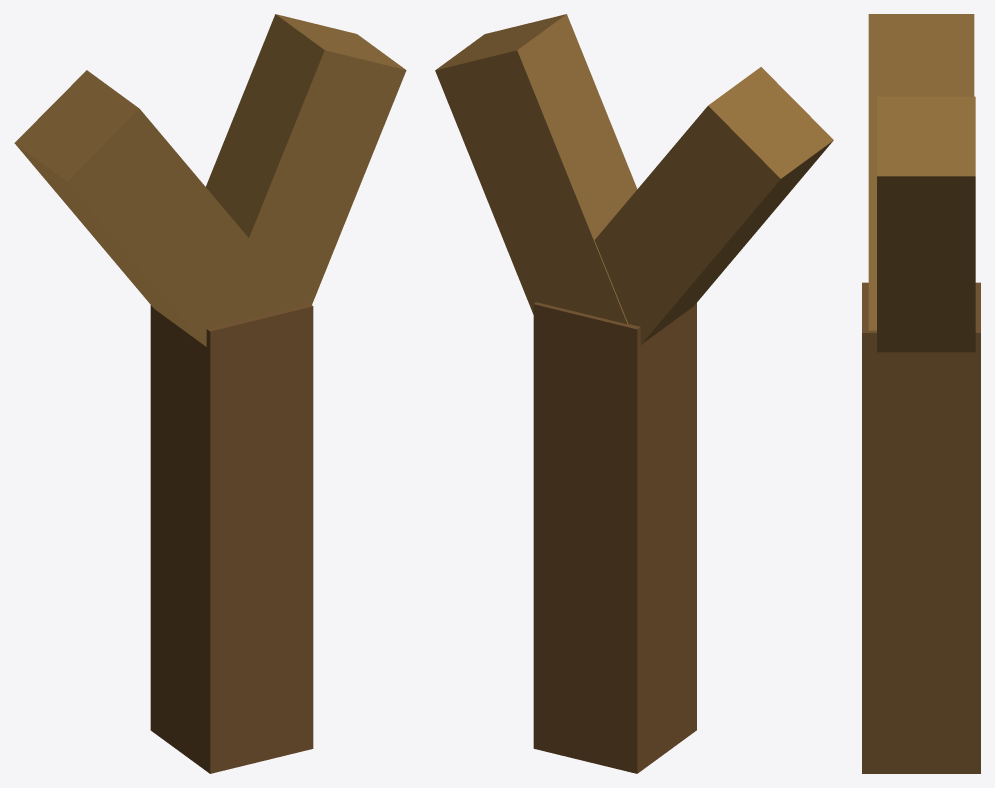
Rendered from Slingshot_Init.fbx.
3 views of the same model, side by side, from view 1: azimuth 30°, elevation 25°; view 2: azimuth 150°, elevation 25°; view 3: azimuth 270°, elevation 25° (orthographic).
Parts seen in each view (by area): view 1: Cube, Cube.002, Cube.001; view 2: Cube, Cube.001, Cube.002; view 3: Cube, Cube.001, Cube.002.
Boxes of the visible parts, x1,y1,x2,y2 form: Cube: (150, 301, 313, 773); Cube.002: (14, 70, 304, 346); Cube.001: (206, 14, 406, 304); Cube: (533, 302, 696, 773); Cube.001: (435, 14, 637, 324); Cube.002: (594, 67, 833, 344); Cube: (862, 282, 980, 773); Cube.001: (877, 96, 975, 352); Cube.002: (868, 14, 974, 330).
Size of the model in its own units: 665 by 1274 by 200.
